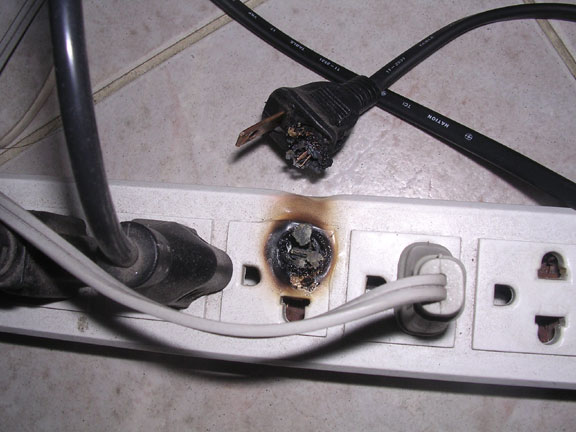Three_eye_plug: (1, 141, 576, 404)
